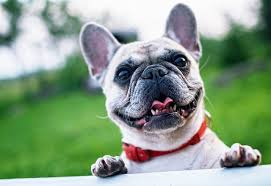Bulldog: (59, 2, 260, 173)
